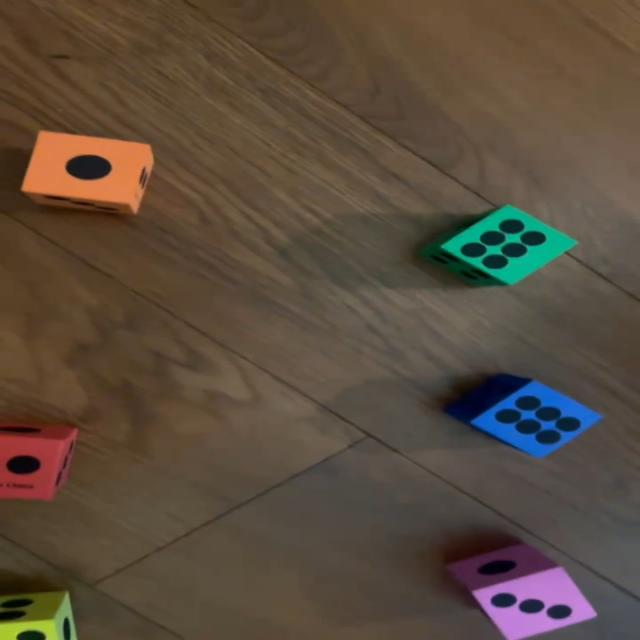blue_block: (448, 373, 604, 458)
red_block: (0, 418, 80, 500)
